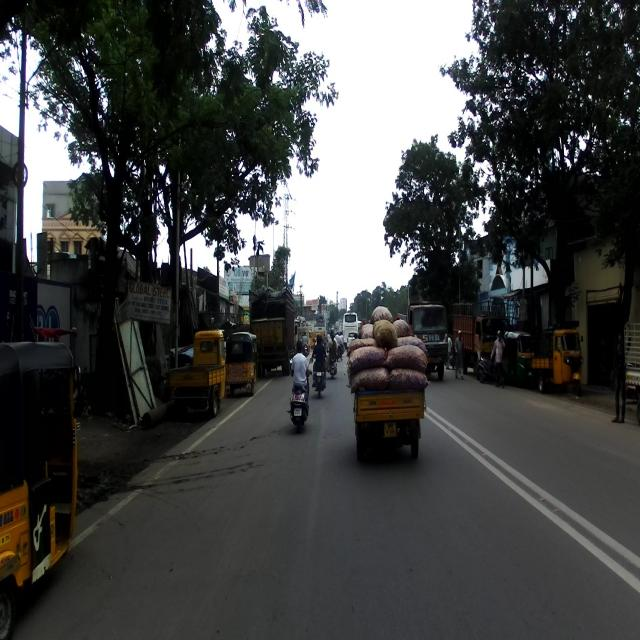autorickshaw: (1, 337, 84, 637), (347, 306, 430, 467), (168, 329, 228, 424), (531, 321, 587, 398)
scooter: (286, 355, 313, 431)
